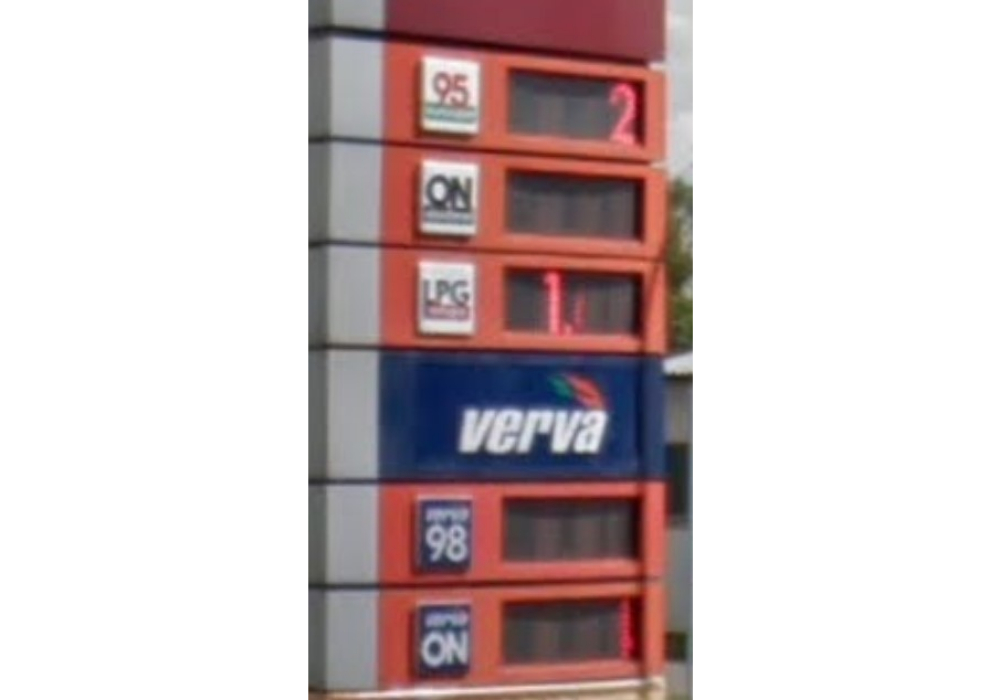LPG: (413, 256, 478, 340)
ON: (414, 152, 480, 241), (412, 598, 472, 678)
PB95: (418, 55, 480, 139)
PB98: (415, 492, 472, 574)
